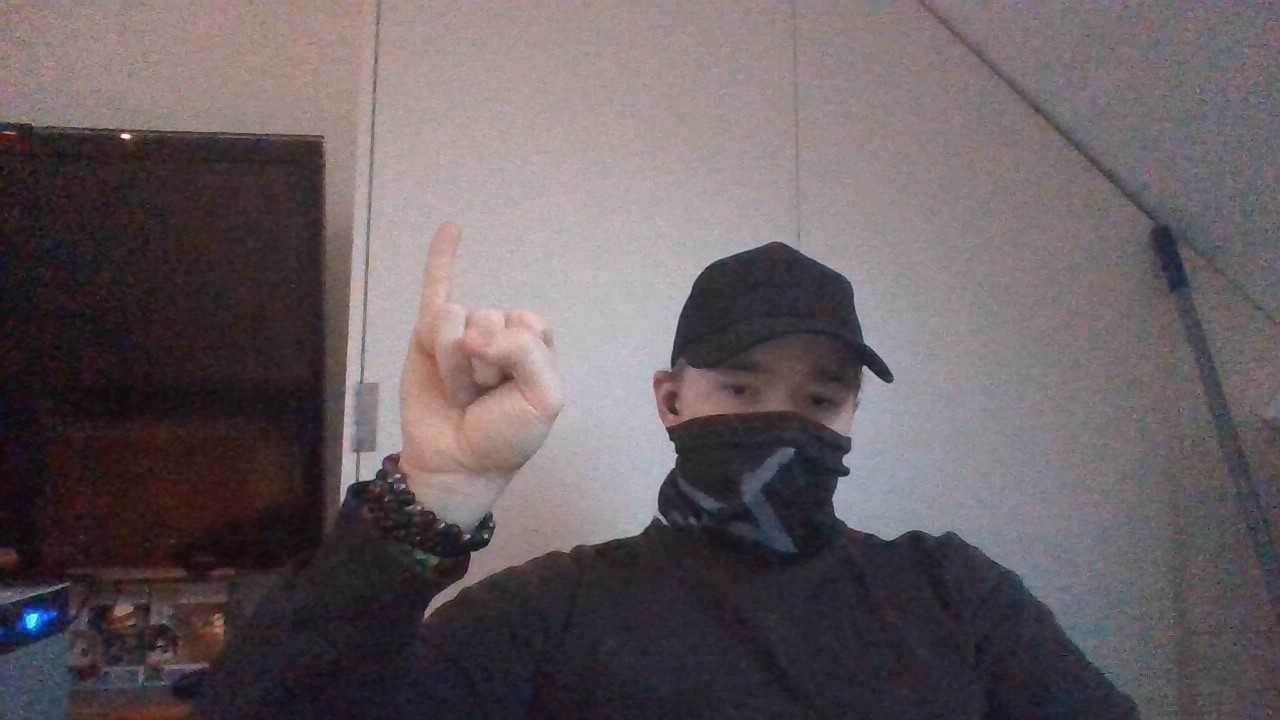I" Sign language: (393, 218, 570, 482)
